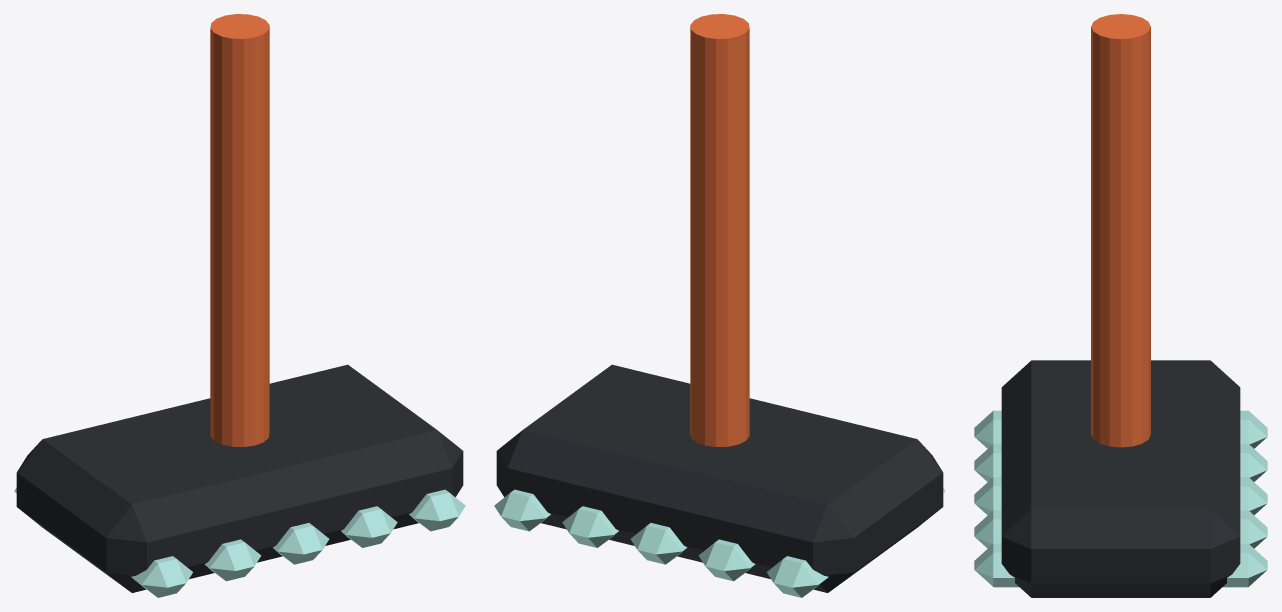
File: mop.glb
3 renders of one model, left to right at view 1: azimuth 30°, elevation 25°; view 2: azimuth 150°, elevation 25°; view 3: azimuth 270°, elevation 25°, orthographic.
Visible parts, largest first — view 1: brush, handle, bristles, bristles.003, bristles.002, bristles.004, bristles.001; view 2: brush, handle, bristles, bristles.003, bristles.002, bristles.004, bristles.001; view 3: brush, handle, bristles.004, bristles.002, bristles, bristles.003, bristles.001.
Boxes of the visible parts, bbox=[...] form: brush: bbox=[16, 364, 463, 592]; handle: bbox=[210, 14, 269, 446]; bristles: bbox=[14, 488, 192, 597]; bristles.003: bbox=[341, 506, 397, 547]; bristles.002: bbox=[272, 523, 329, 564]; bristles.004: bbox=[409, 489, 465, 531]; bristles.001: bbox=[204, 539, 261, 581]; brush: bbox=[496, 364, 943, 592]; handle: bbox=[690, 14, 749, 446]; bristles: bbox=[767, 488, 945, 597]; bristles.003: bbox=[562, 506, 618, 547]; bristles.002: bbox=[630, 523, 687, 564]; bristles.004: bbox=[494, 489, 550, 531]; bristles.001: bbox=[698, 539, 755, 581]; brush: bbox=[1001, 360, 1240, 597]; handle: bbox=[1091, 14, 1150, 447]; bristles.004: bbox=[974, 543, 1267, 587]; bristles.002: bbox=[974, 477, 1267, 515]; bristles: bbox=[974, 410, 1267, 448]; bristles.003: bbox=[974, 510, 1267, 548]; bristles.001: bbox=[974, 443, 1267, 481].
Size of the model in its own units: 0.76 by 1.01 by 0.54.
